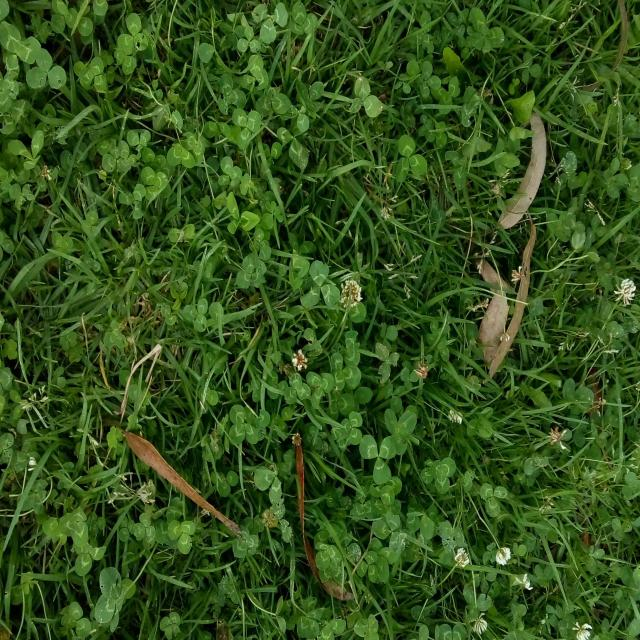Four Leaf Clover: (93, 566, 125, 632)
